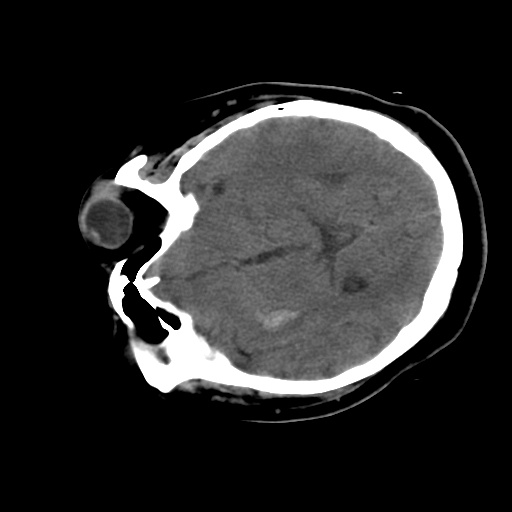a: (242, 297, 316, 342)
